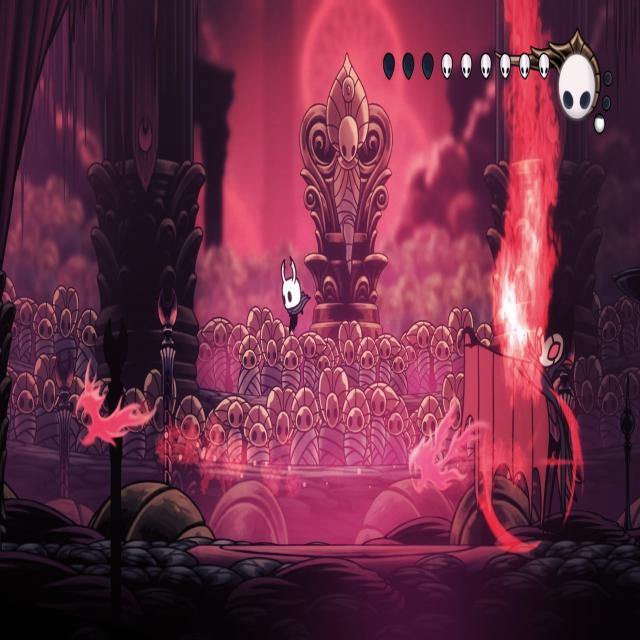Fire Bat: (76, 353, 163, 452), (409, 398, 483, 493)
Open Cloak: (456, 290, 587, 546)
Player: (276, 248, 314, 340)
